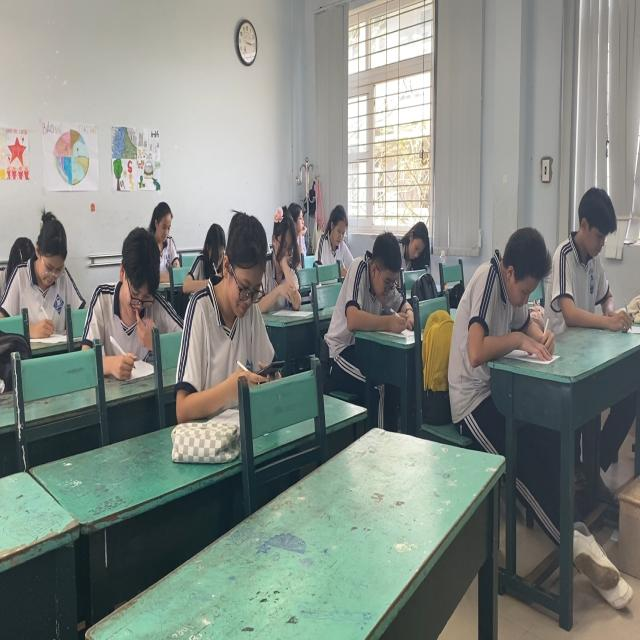not_cheating: (183, 188, 294, 428), (451, 212, 552, 454), (78, 194, 190, 366), (3, 178, 88, 352), (550, 162, 622, 358), (325, 222, 418, 354), (250, 184, 306, 328), (178, 192, 243, 294), (132, 170, 188, 286), (310, 179, 363, 290), (387, 194, 433, 300), (282, 167, 312, 244)
